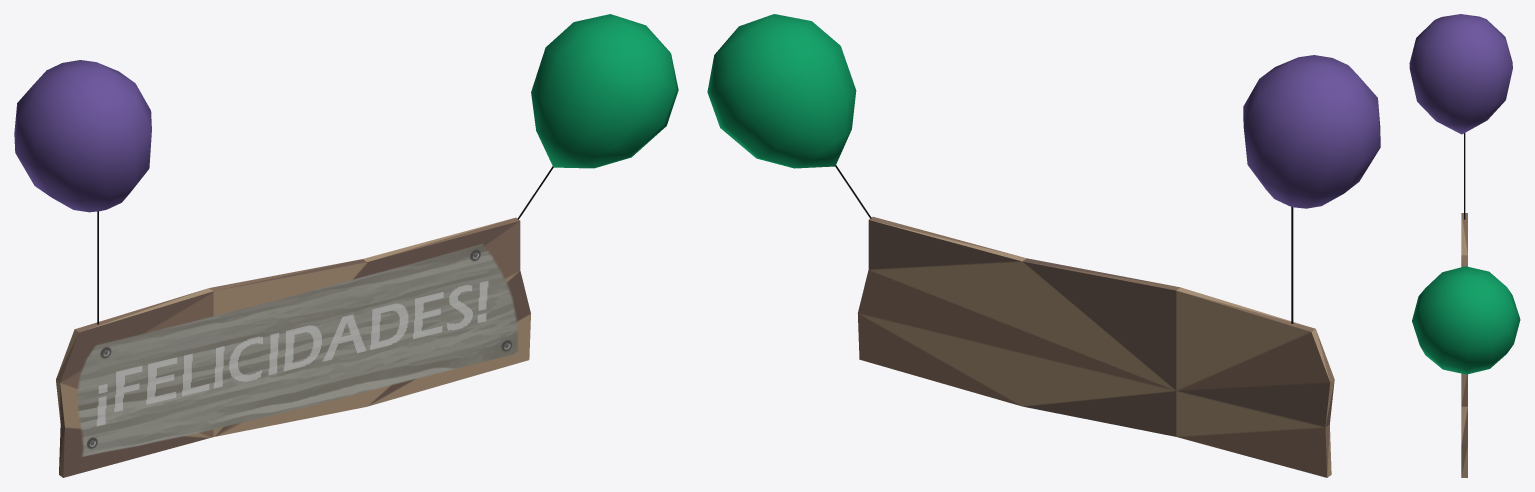
Rendered from Isla_Altar_Cartel.FBX.
3 views of the same model, side by side, from view 1: azimuth 30°, elevation 25°; view 2: azimuth 150°, elevation 25°; view 3: azimuth 270°, elevation 25° (orthographic). The views are drawn at different scales.
Visible parts, largest first — view 1: Isla_Altar_cartel, Isla_Altar_globo_verde, Isla_Altar_globo_morado; view 2: Isla_Altar_cartel, Isla_Altar_globo_verde, Isla_Altar_globo_morado; view 3: Isla_Altar_globo_morado, Isla_Altar_globo_verde, Isla_Altar_cartel, Isla_Altar_cartel_cuerda_01.
Boxes of the visible parts, x1=… form: Isla_Altar_cartel: x1=56, y1=217, x2=530, y2=477; Isla_Altar_globo_verde: x1=531, y1=14, x2=678, y2=168; Isla_Altar_globo_morado: x1=14, y1=60, x2=151, y2=212; Isla_Altar_cartel: x1=857, y1=216, x2=1334, y2=477; Isla_Altar_globo_verde: x1=707, y1=14, x2=856, y2=168; Isla_Altar_globo_morado: x1=1243, y1=55, x2=1380, y2=208; Isla_Altar_globo_morado: x1=1409, y1=14, x2=1512, y2=134; Isla_Altar_globo_verde: x1=1412, y1=266, x2=1520, y2=374; Isla_Altar_cartel: x1=1461, y1=213, x2=1467, y2=477; Isla_Altar_cartel_cuerda_01: x1=1464, y1=133, x2=1465, y2=219.
Bounding box in the file's own units: 127 × 76.55 × 25.43.
1 material, 1 textured.
